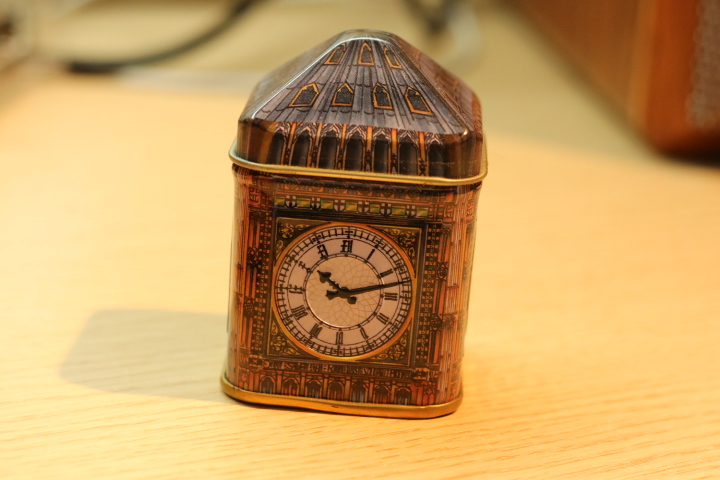Big Ben: (204, 13, 510, 436)
